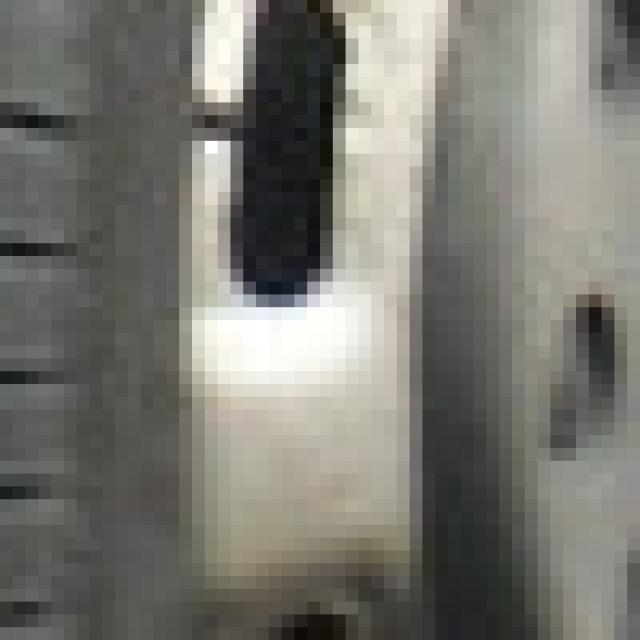no_fire: (29, 29, 640, 594)
